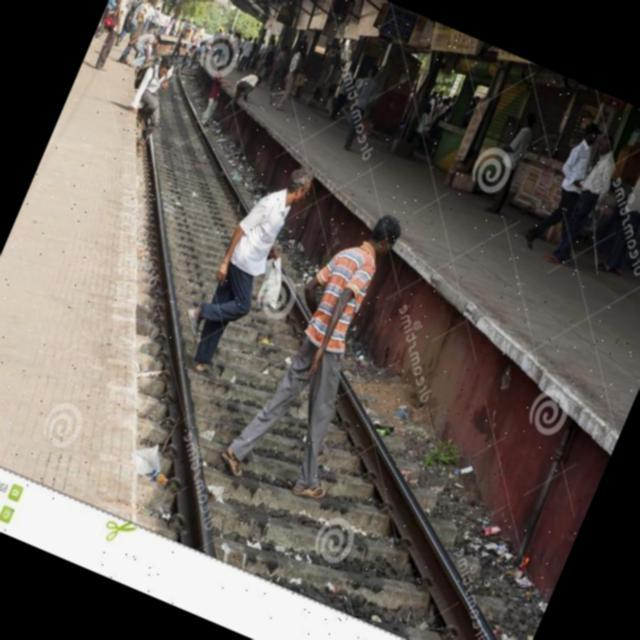person: (213, 187, 434, 513), (160, 140, 326, 392), (516, 111, 609, 264), (544, 130, 629, 277), (474, 102, 544, 219), (114, 44, 184, 150), (593, 133, 640, 280), (331, 61, 388, 156), (85, 0, 139, 75), (264, 40, 310, 114), (190, 62, 231, 131), (224, 64, 265, 114)
